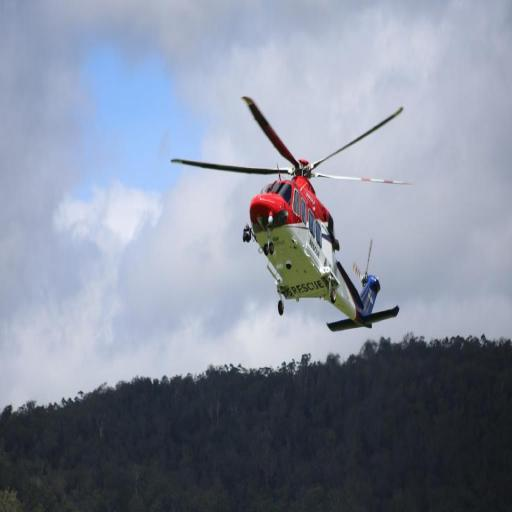helicopter: (168, 96, 416, 338)
